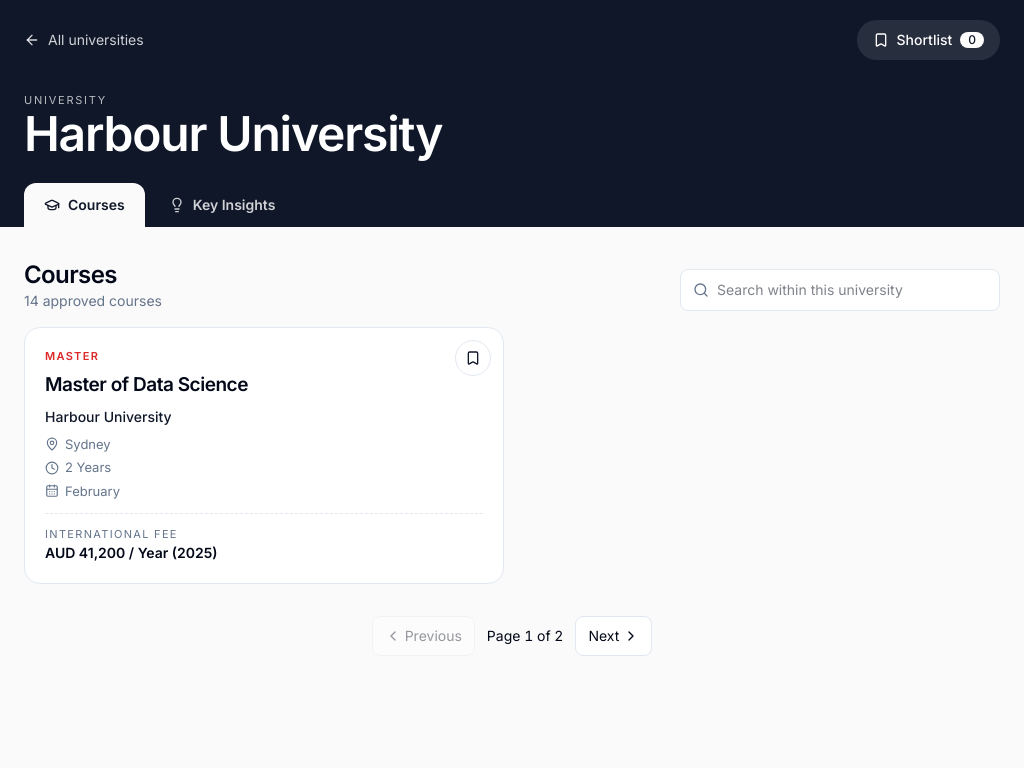
Test: public university page › renders Key Insights cards read-only and persists the tab in the URL
Expected: the element with test id "card-course-1" is shown, [24,327,504,584]
Click the tab with test id "tab-uni-insights".
click(222, 205)  # box [149,183,295,227]
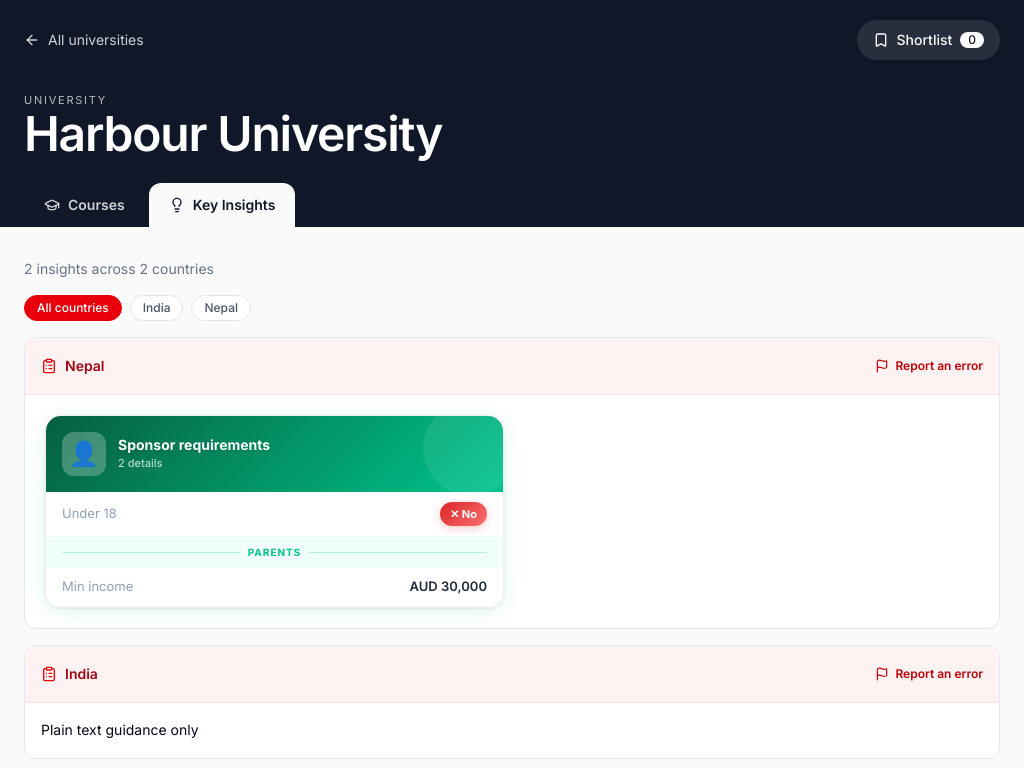
Expected: the text "Sponsor requirements" is shown, [118,436,270,453]
Expected: the text "✕ No" is shown, [440,502,487,526]
Expected: the text "Min income" is shown, [62,578,133,596]
Click the button with test id "pill-country-India".
click(157, 308)  # box [130,295,184,321]
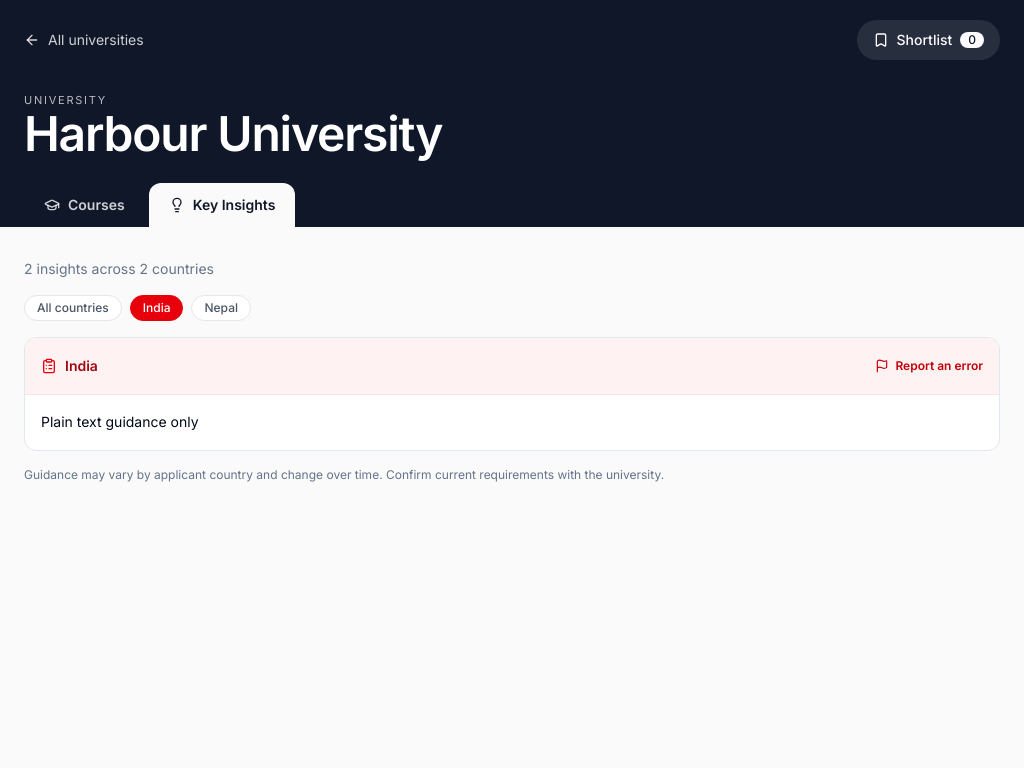
Expected: the text "Sponsor requirements" is gone
